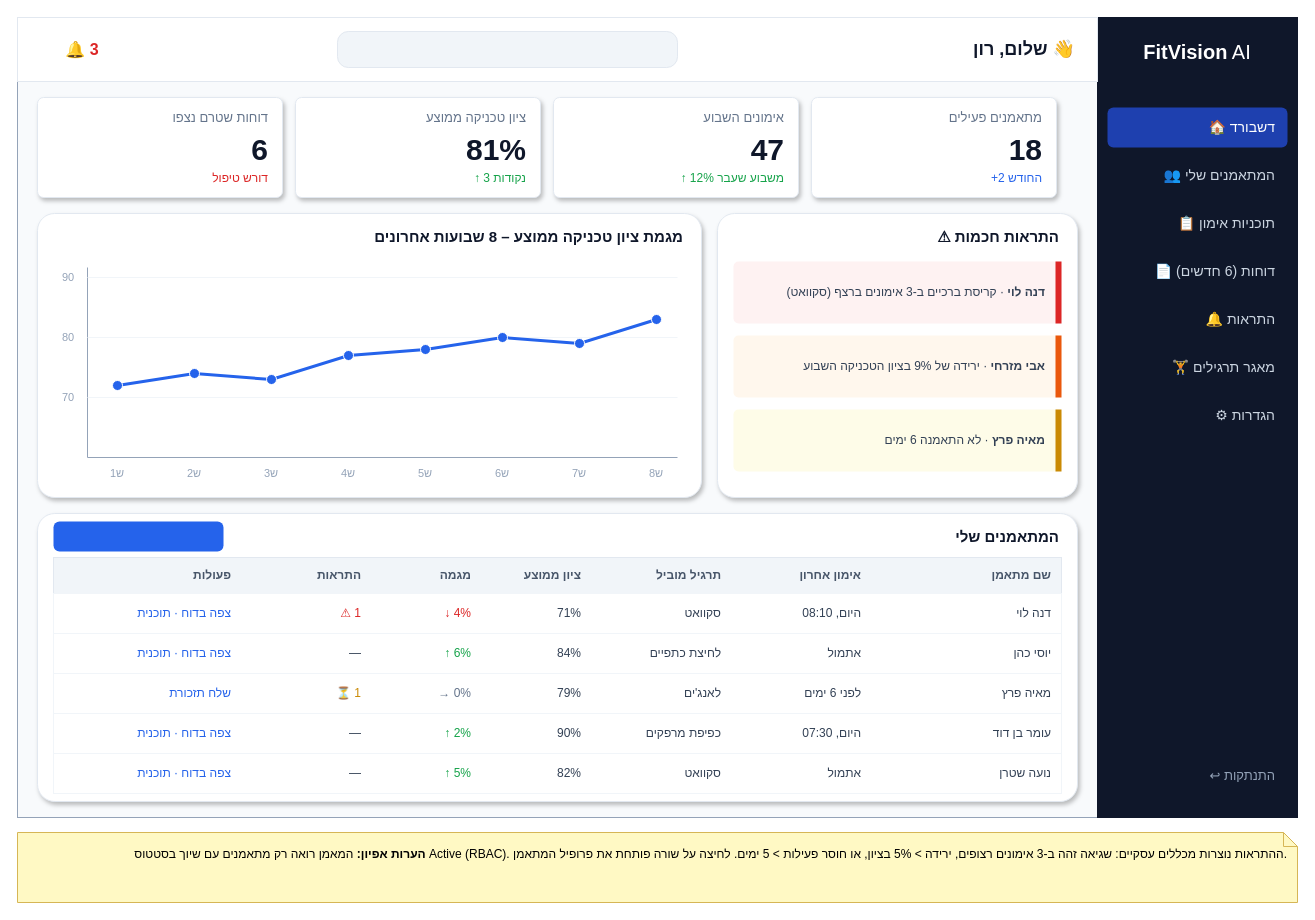
This 1315x920 diagram has some shape labels left out. The centre of each missing label's shape, as x and y in pixels:
"+ שיוך מתאמן חדש" belongs at pixel 138 536.
"🔍 חיפוש מתאמן..." belongs at pixel 507 49.
